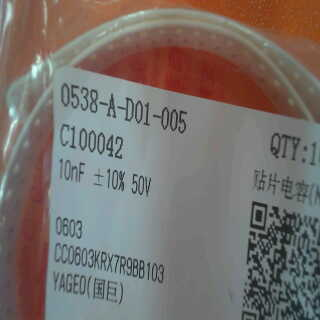10nF: (52, 158, 98, 184)
